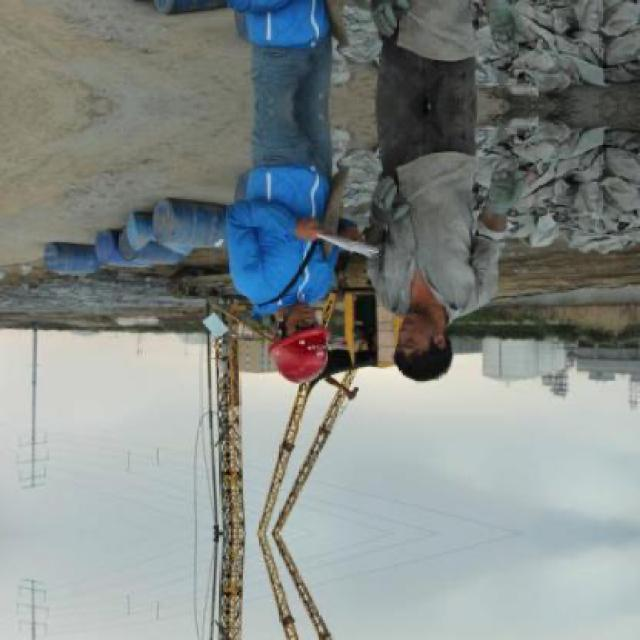con casco: (227, 290, 345, 383)
sin casco: (372, 300, 482, 391)
